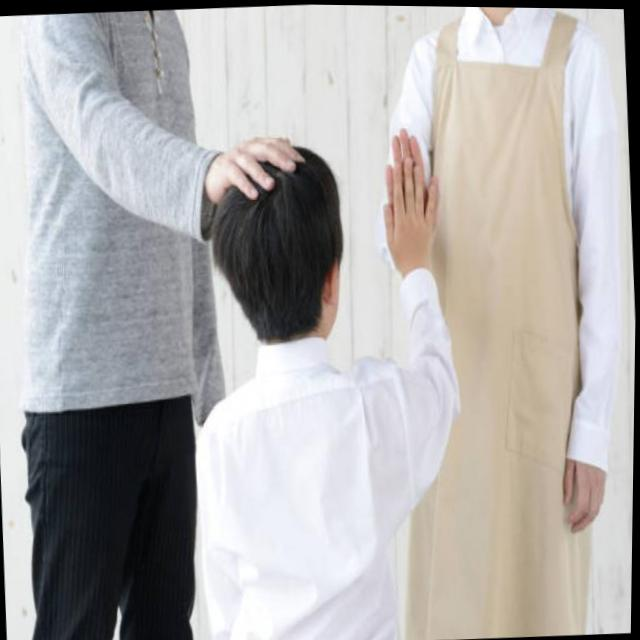no helmet: (192, 105, 364, 338)
